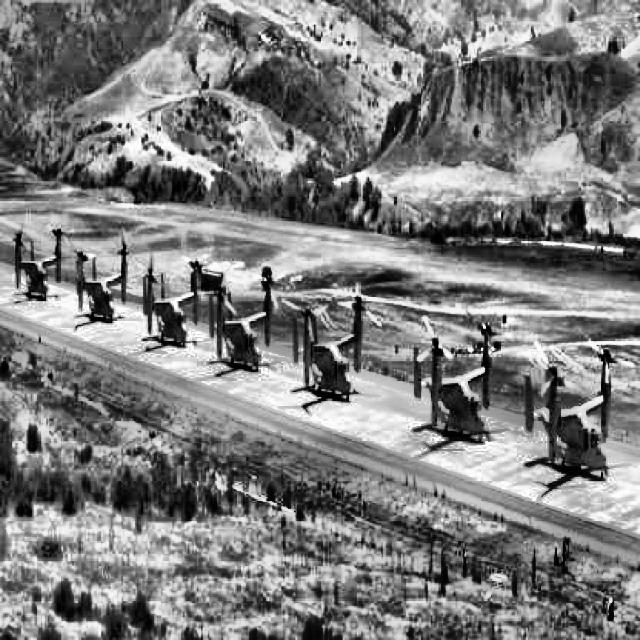V22: (525, 327, 633, 479), (413, 306, 513, 443), (281, 282, 382, 402), (196, 266, 284, 372), (130, 248, 215, 346), (64, 228, 142, 323), (0, 218, 75, 299)
